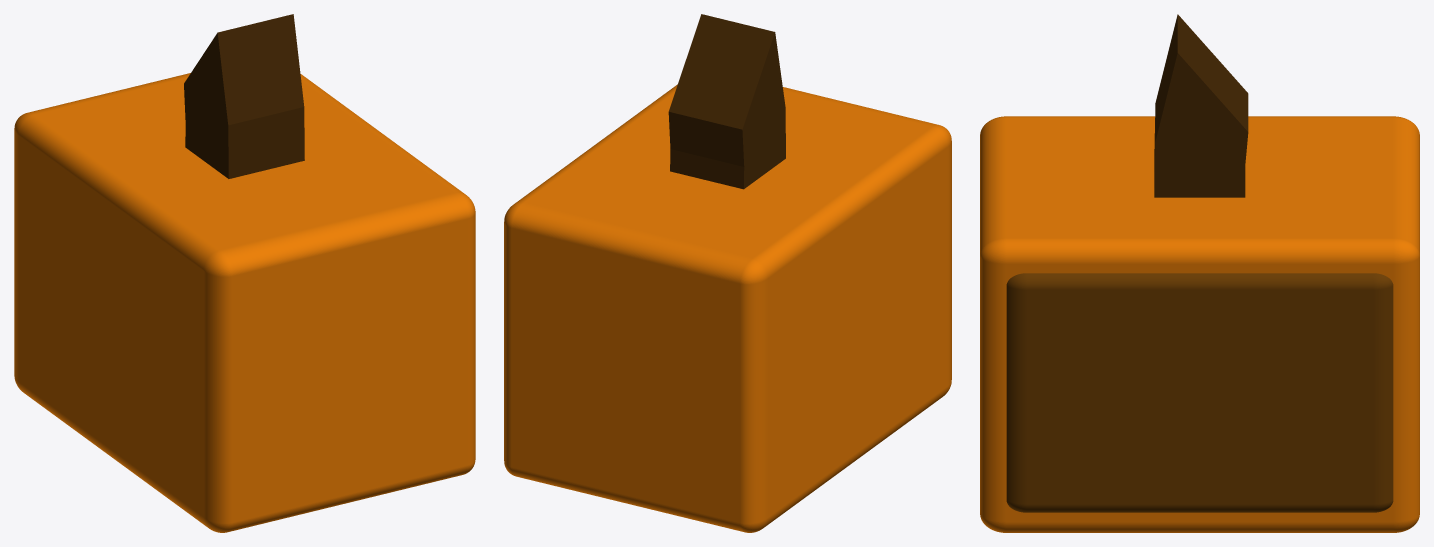
Rendered from pumpkin.fbx.
3 renders of one model, left to right at view 1: azimuth 30°, elevation 25°; view 2: azimuth 150°, elevation 25°; view 3: azimuth 270°, elevation 25°, orthographic. The views are drawn at different scales.
Visible parts, largest first — view 1: Cube, Cube.002; view 2: Cube, Cube.002; view 3: Cube.001, Cube, Cube.002.
Boxes of the visible parts, <box> form: Cube: <box>14,73,475,532</box>; Cube.002: <box>184,14,304,178</box>; Cube: <box>504,84,951,532</box>; Cube.002: <box>668,14,785,189</box>; Cube.001: <box>1006,273,1393,512</box>; Cube: <box>980,116,1419,532</box>; Cube.002: <box>1154,14,1248,197</box>.
Bounding box in the file's own units: 206 × 299 × 272.
